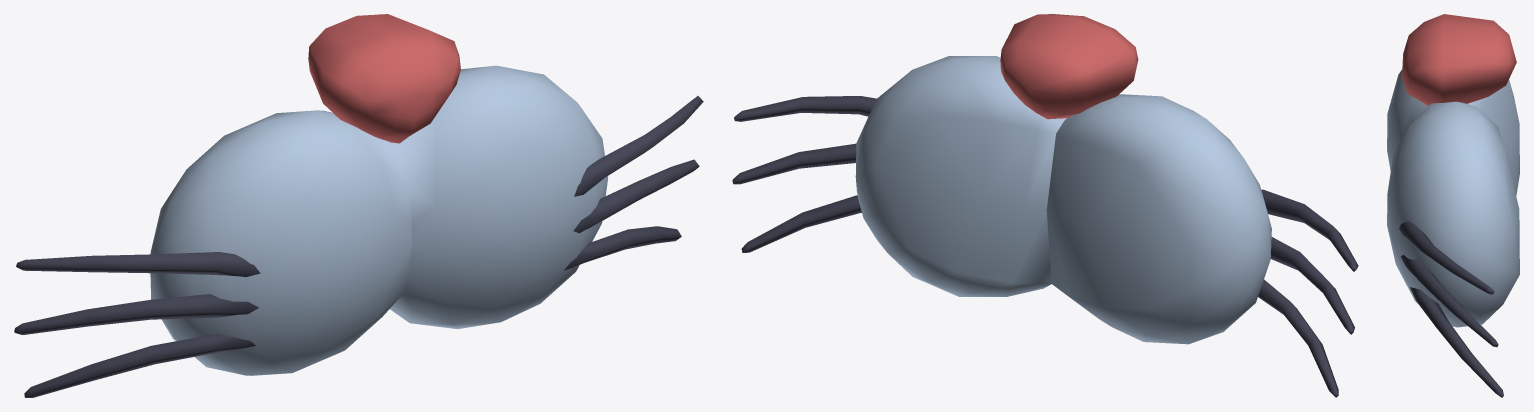
Rendered from AccessoryMouthCat0.glb.
The picture shows the model from 3 angles, left to right: view 1: azimuth 30°, elevation 25°; view 2: azimuth 150°, elevation 25°; view 3: azimuth 270°, elevation 25°; orthographic projection. The views are drawn at different scales.
Visible parts, largest first — view 1: Accessory__mAccessory; view 2: Accessory__mAccessory; view 3: Accessory__mAccessory.
Part boxes in pixels (<box>): Accessory__mAccessory: <box>14,14,703,397</box>; Accessory__mAccessory: <box>732,14,1358,397</box>; Accessory__mAccessory: <box>1387,14,1519,397</box>.
Bounding box in the file's own units: 3.84 × 1.71 × 0.815.
Materials: 1 (1 with a texture image).
